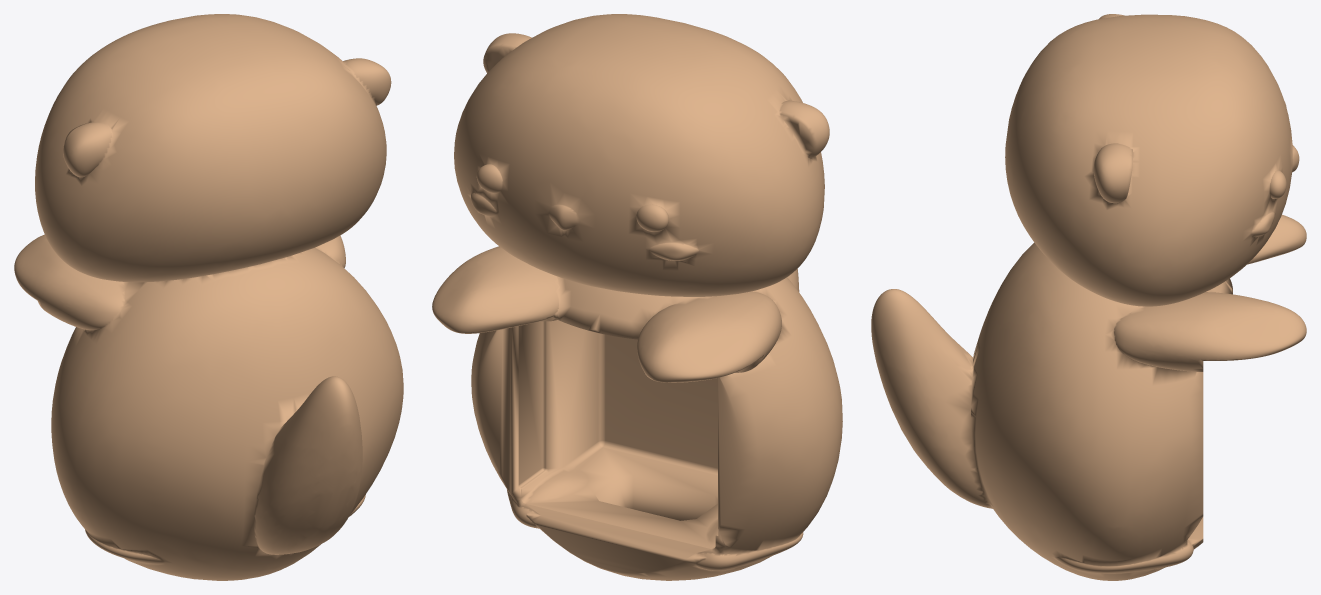
Rendered from otter-charm.glb.
3 renders of one model, left to right at view 1: azimuth 30°, elevation 25°; view 2: azimuth 150°, elevation 25°; view 3: azimuth 270°, elevation 25°, orthographic. The views are drawn at different scales.
Visible parts, largest first — view 1: Body; view 2: Body; view 3: Body.
Boxes of the visible parts, left/top/right/bottom form: Body: left=14, top=14, right=403, bottom=580; Body: left=432, top=14, right=842, bottom=580; Body: left=871, top=14, right=1306, bottom=580.
Size of the model in its own units: 0.0407 by 0.0606 by 0.0462.
